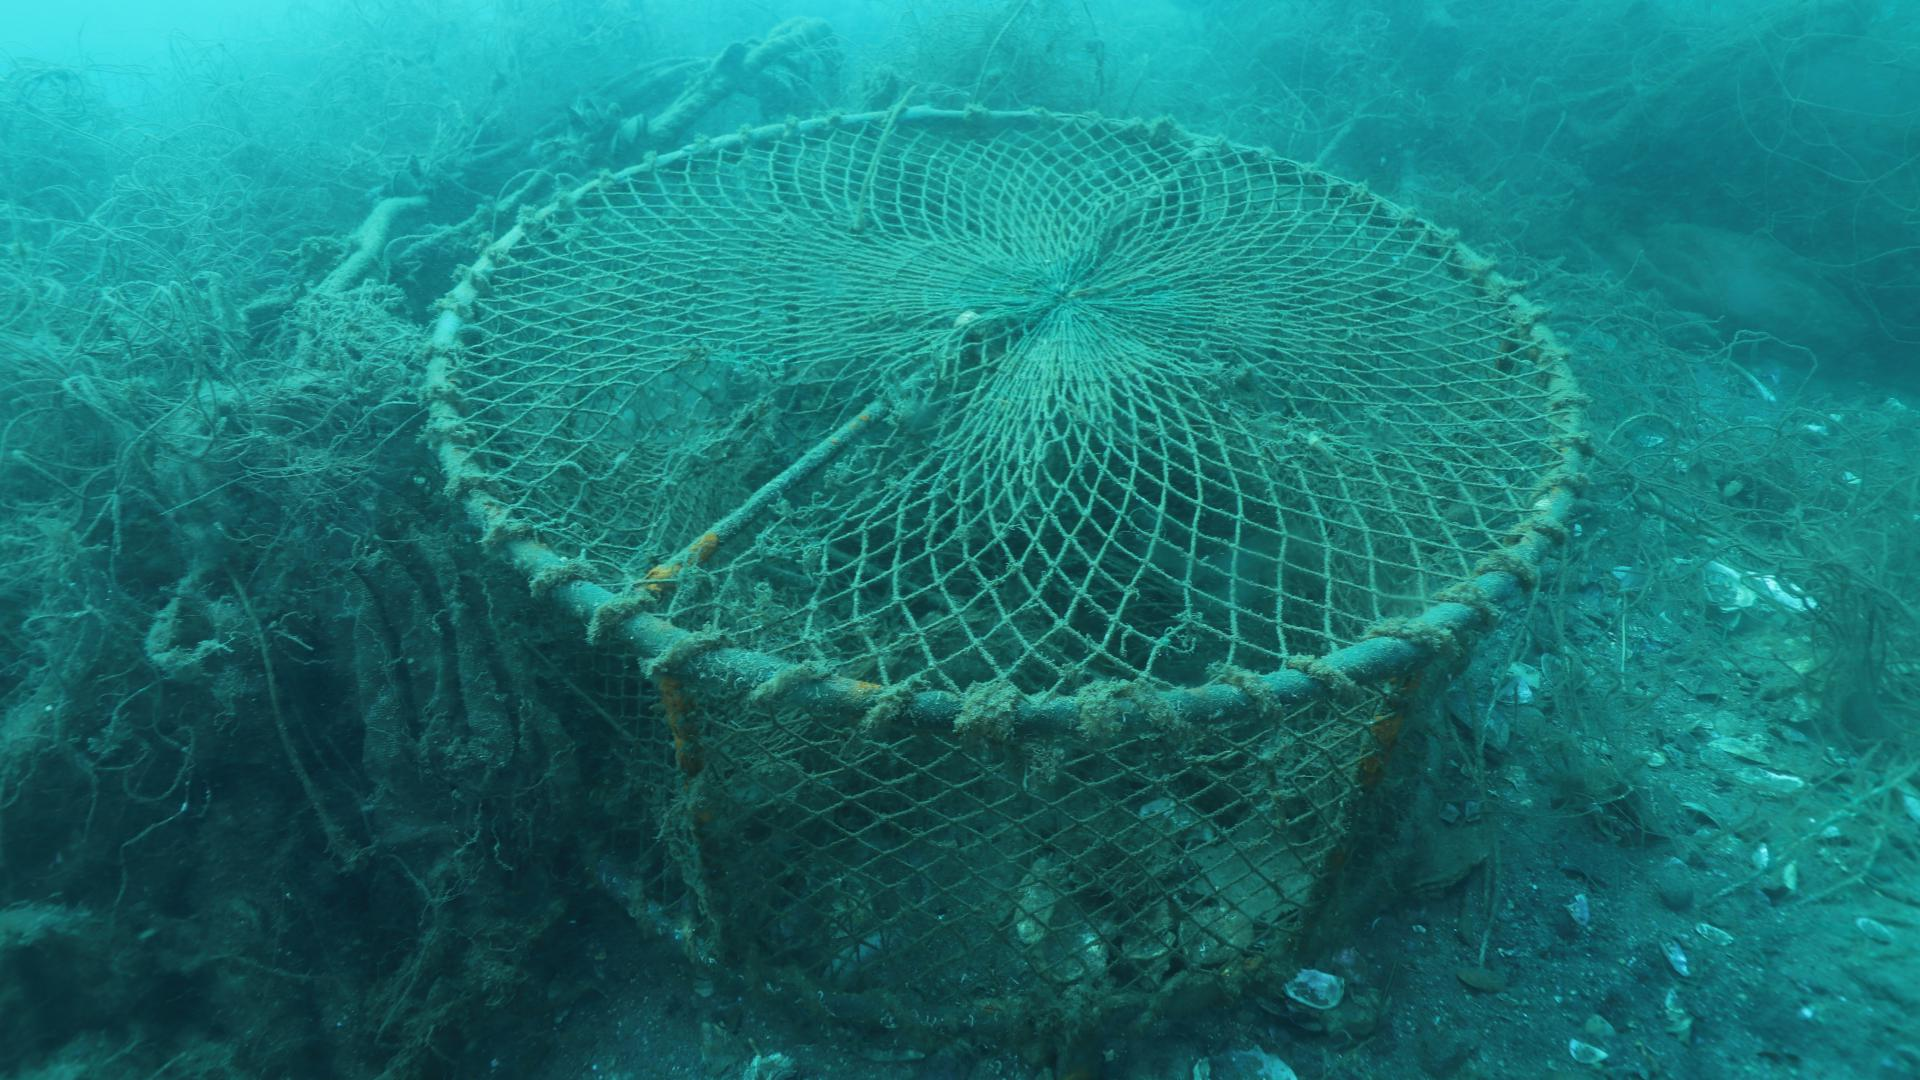circular fish trap: (425, 108, 1585, 1055)
